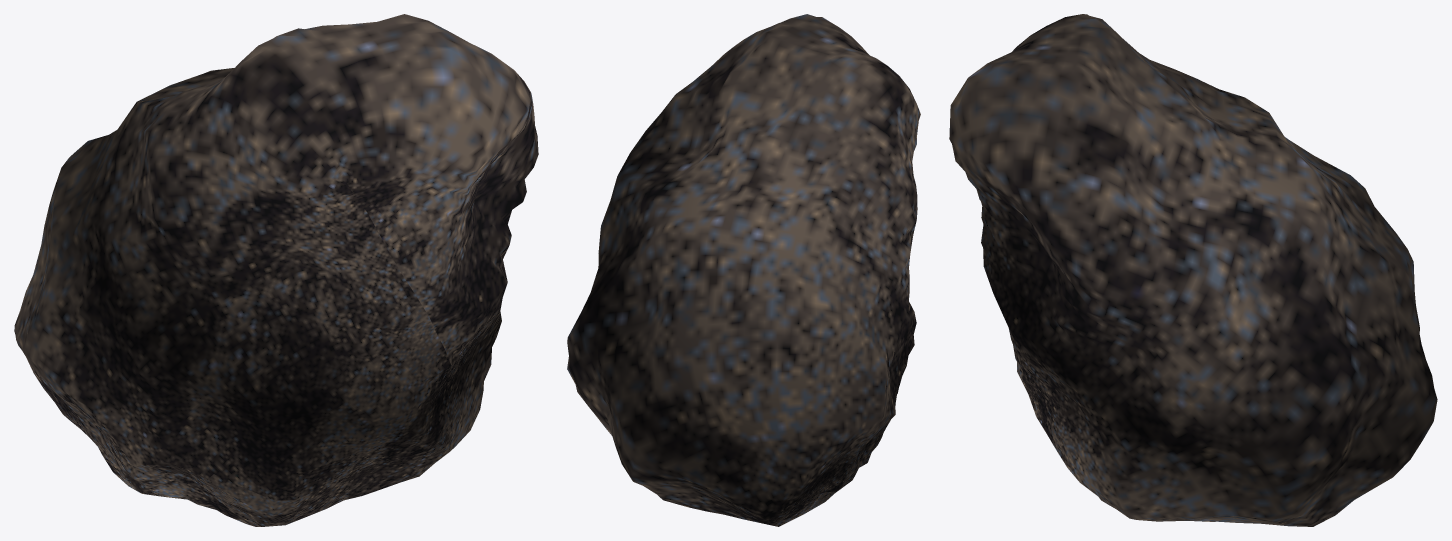
File: SM_Rock_002.fbx
The picture shows the model from 3 angles, left to right: view 1: azimuth 30°, elevation 25°; view 2: azimuth 150°, elevation 25°; view 3: azimuth 270°, elevation 25°; orthographic projection. The views are drawn at different scales.
Parts seen in each view (by area): view 1: rock.002; view 2: rock.002; view 3: rock.002.
Boxes of the visible parts, <box> form: rock.002: <box>14,14,538,526</box>; rock.002: <box>567,14,920,526</box>; rock.002: <box>949,14,1437,526</box>.
Size of the model in its own units: 2.46 by 2.81 by 3.02.
